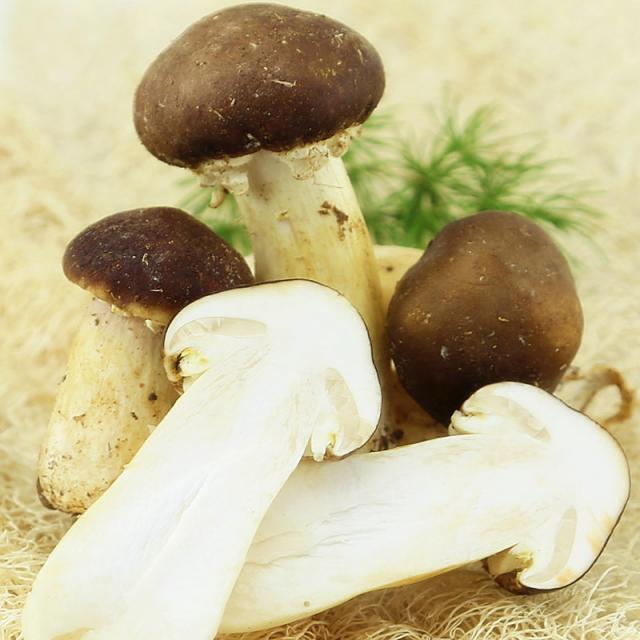Agaricus blazei Murill: (19, 279, 384, 638), (140, 10, 387, 410), (195, 378, 627, 598), (391, 218, 586, 418)
